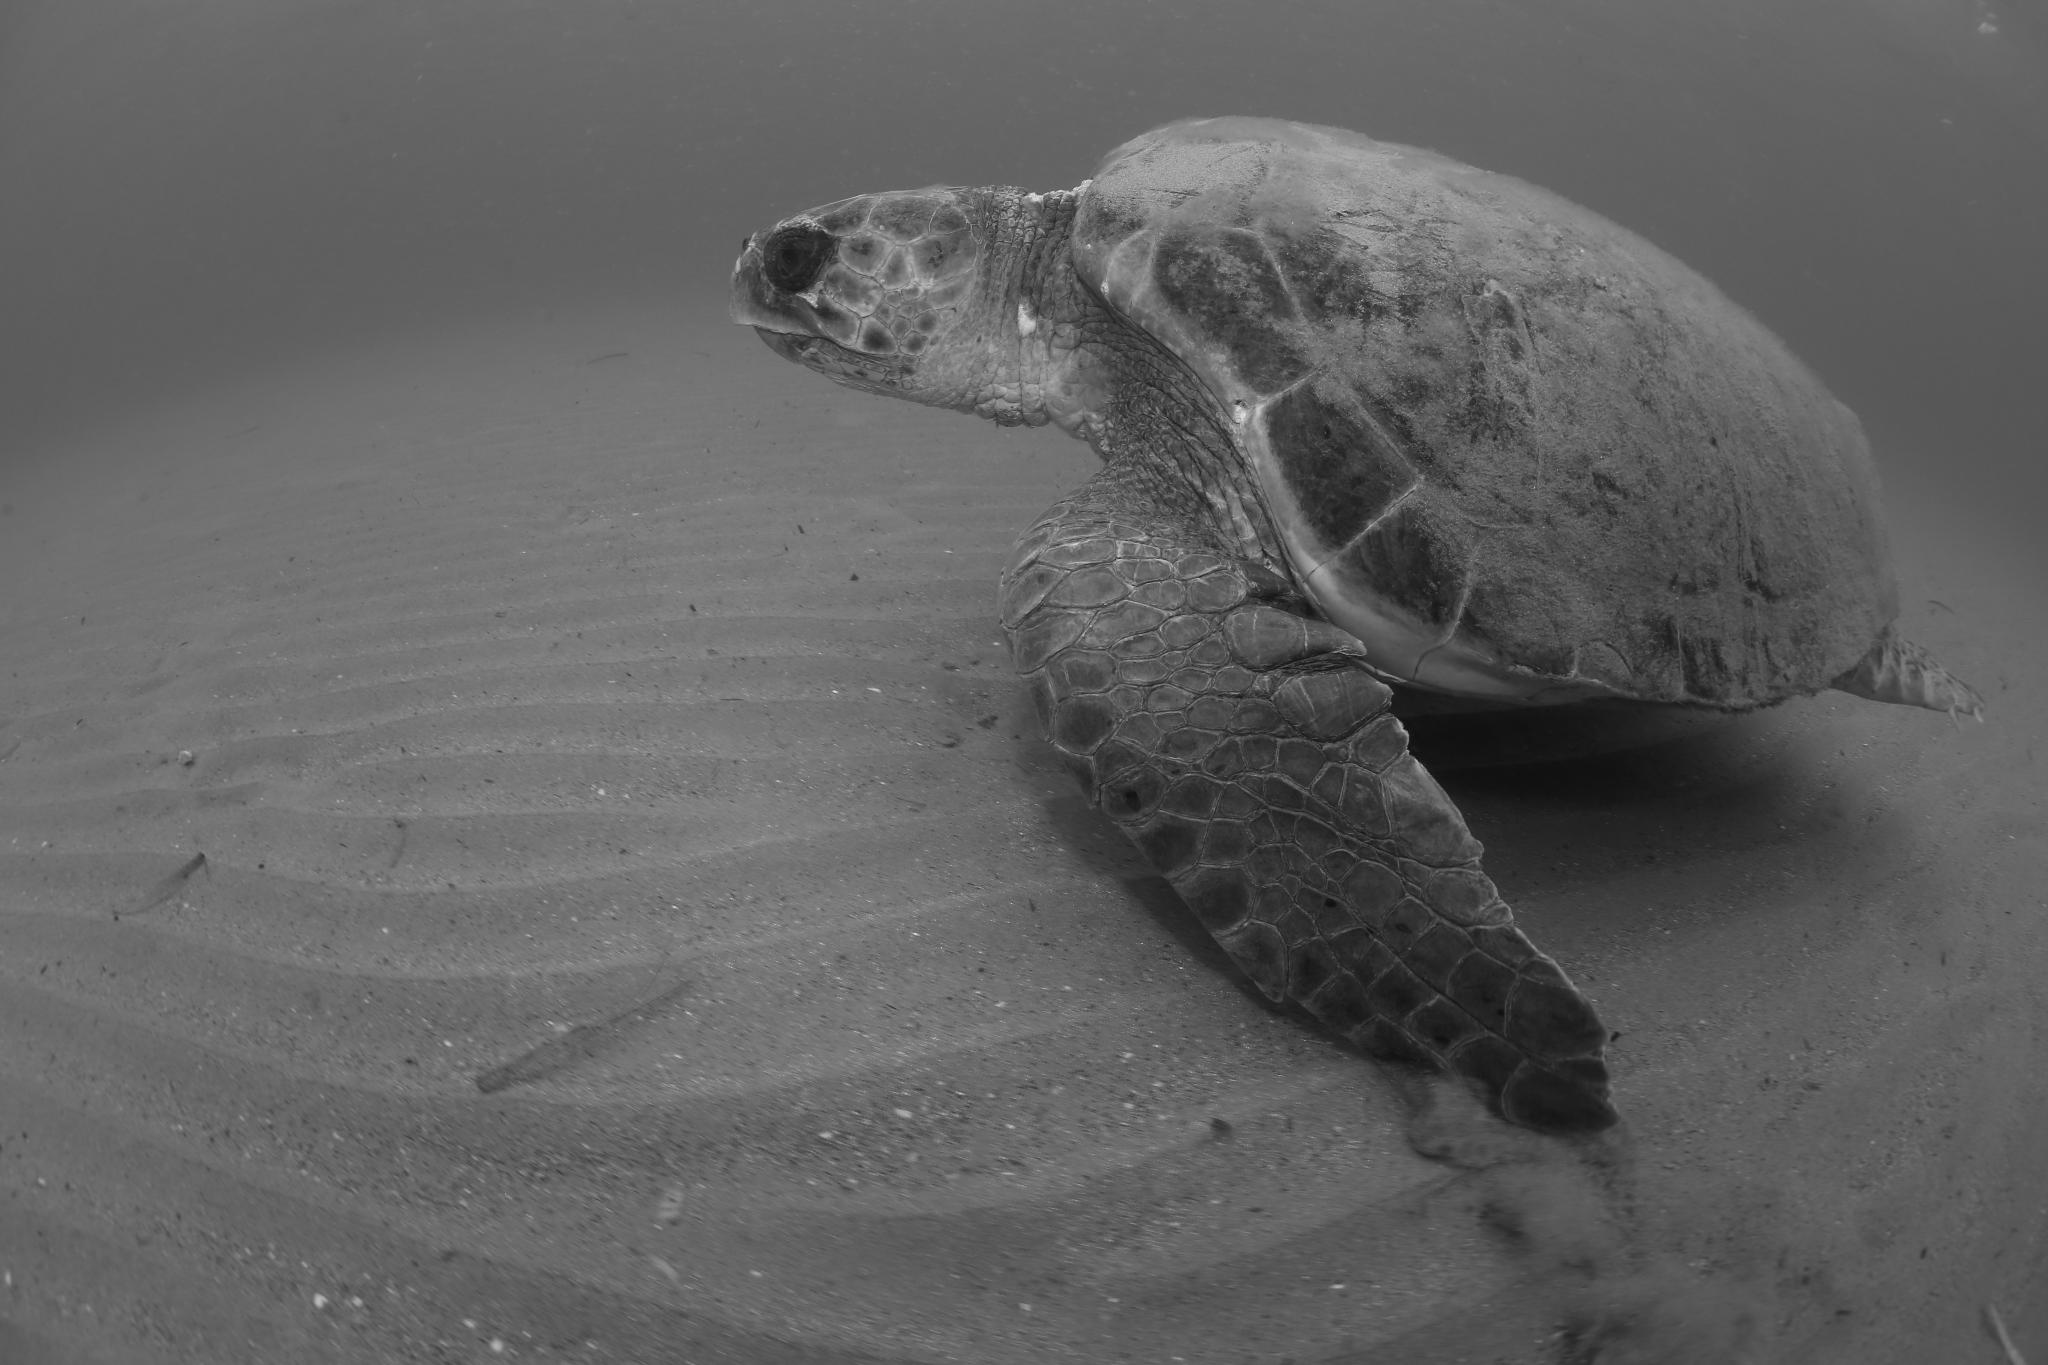Head: (729, 188, 1049, 425)
